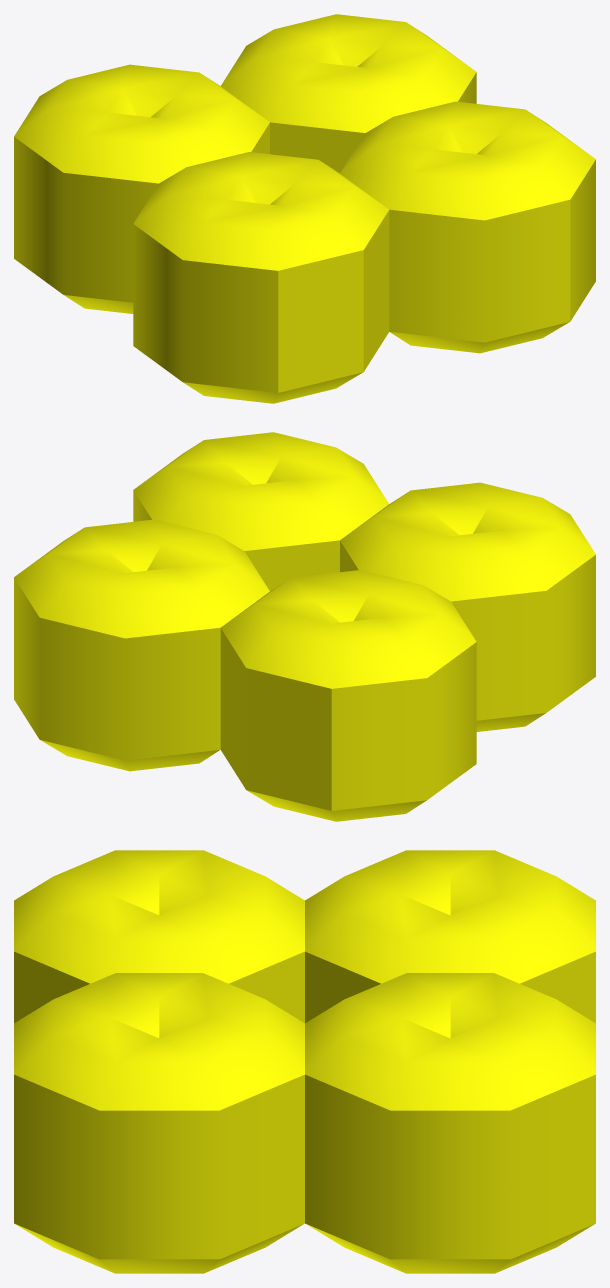
Rendered from kaykit-containers-d.glb.
3 renders of one model, top to bottom at view 1: azimuth 30°, elevation 25°; view 2: azimuth 150°, elevation 25°; view 3: azimuth 270°, elevation 25°, orthographic. The views are drawn at different scales.
Parts seen in each view (by area): view 1: containers_D; view 2: containers_D; view 3: containers_D.
Part boxes in pixels (box(x1,y1,x2,y2)): containers_D: box(14, 14, 595, 403); containers_D: box(14, 432, 595, 821); containers_D: box(14, 850, 595, 1273).
Size of the model in its own units: 0.5 by 0.2 by 0.5.
